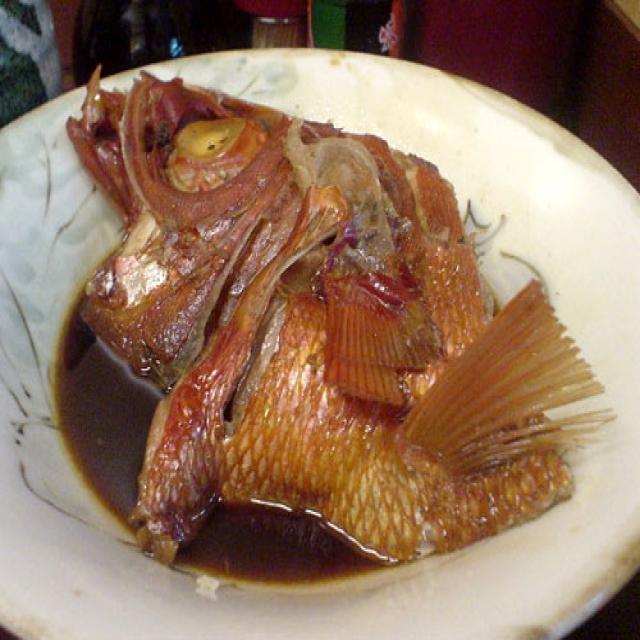熟制海鲜: (21, 48, 634, 611)
